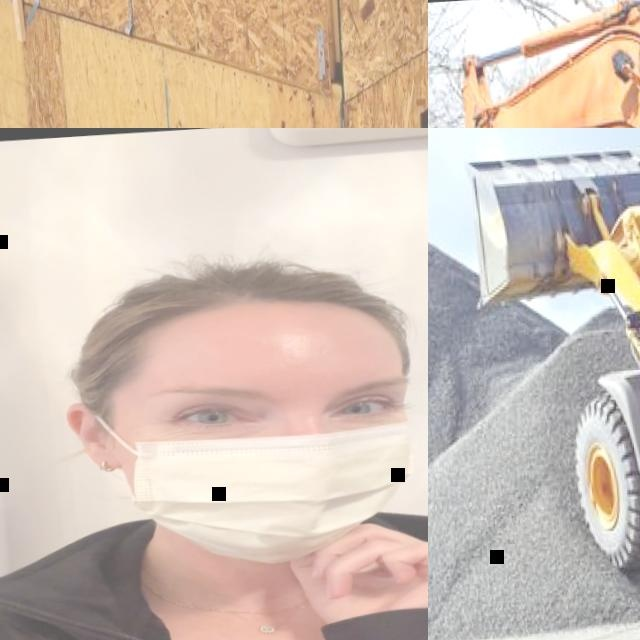Mask: (95, 375, 413, 567)
NO-Hardhat: (80, 243, 403, 359)
NO-Safety Vest: (0, 534, 428, 640)
Person: (0, 229, 428, 640)
machinery: (459, 128, 640, 640), (428, 0, 640, 128)
